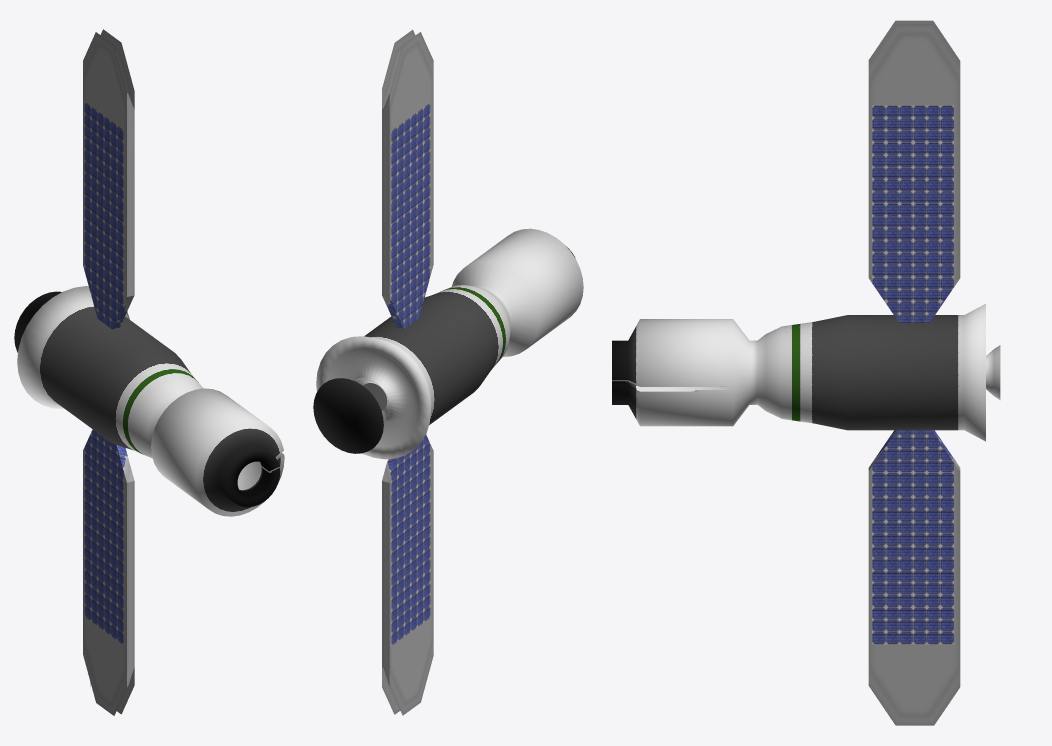
Rendered from shezhou.obj.
The picture shows the model from 3 angles, left to right: view 1: azimuth 30°, elevation 25°; view 2: azimuth 150°, elevation 25°; view 3: azimuth 270°, elevation 25°; orthographic projection. The views are drawn at different scales.
Visible parts, largest first — view 1: Cylinder; view 2: Cylinder; view 3: Cylinder.
Part boxes in pixels (x1=…): Cylinder: x1=14, y1=29, x2=284, y2=715; Cylinder: x1=313, y1=29, x2=583, y2=715; Cylinder: x1=612, y1=20, x2=1000, y2=725.
Bounding box in the file's own units: 0.8506 × 4.85 × 2.62.
1 material, 1 textured.
